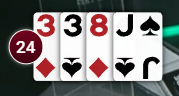3: (60, 12, 85, 39), (33, 13, 58, 39)
8: (85, 12, 112, 39)
j: (112, 12, 139, 40)
